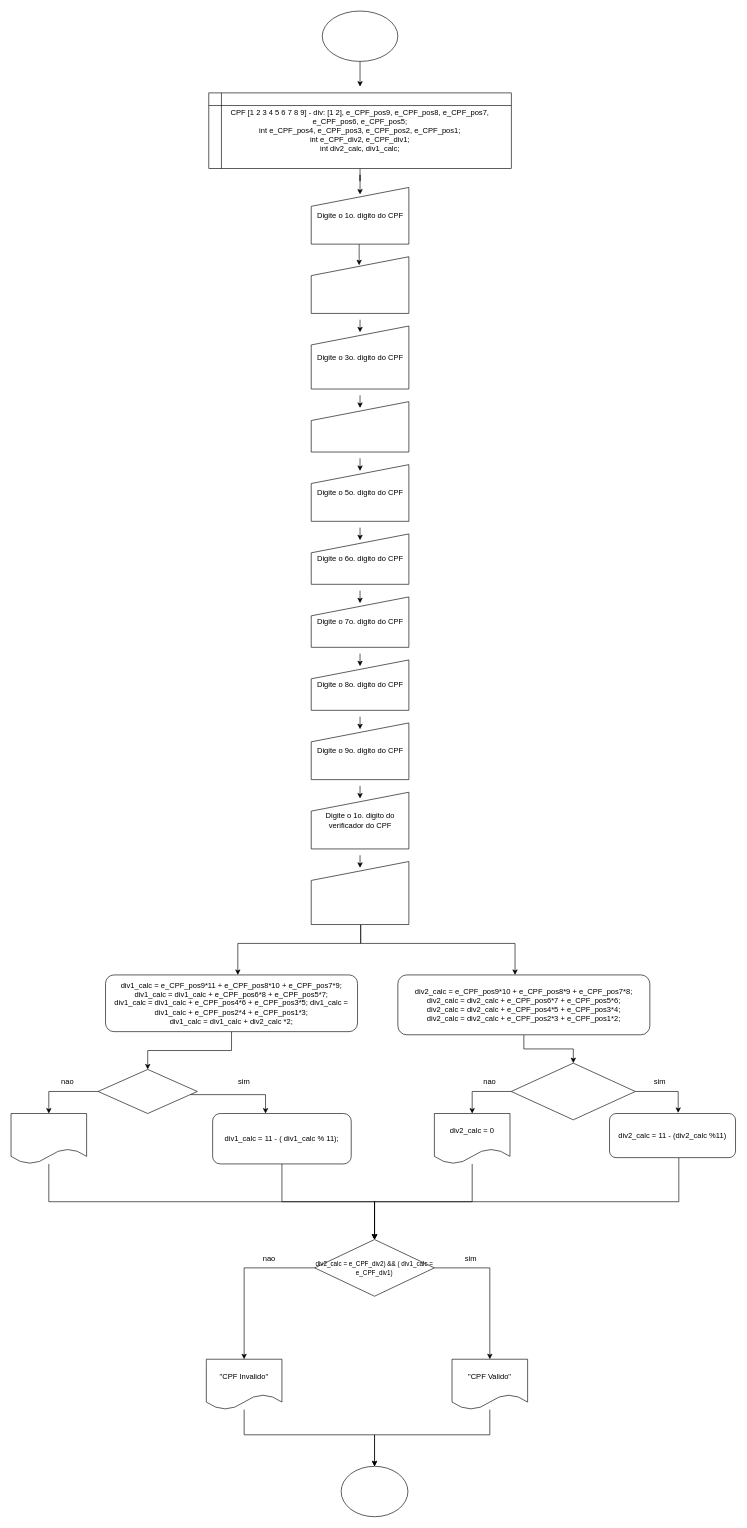
This 747x1528 diagram has some shape labels left out. Here are the shapes that lost their labels. From the top down, the centre of each, then its label:
(x=360, y=35): Start
(x=360, y=284): Digite o 2o. digito do CPF
(x=360, y=426): Digite o 4o. digito do CPF
(x=360, y=893): Digite o 2o. digito do verificador do CPF
(x=147, y=1091): ( div1_calc % 11) >2)
(x=573, y=1091): ( (div2_calc % 11) >2)
(x=48, y=1138): div1_calc = 0
(x=374, y=1491): End
